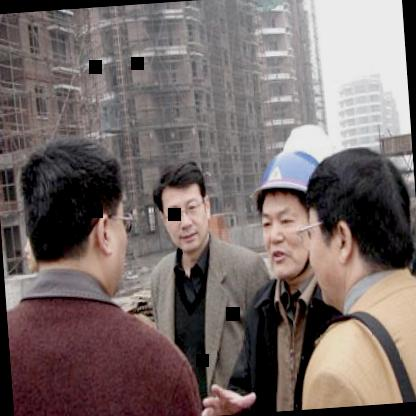head: (10, 124, 139, 302), (305, 136, 416, 312), (151, 148, 215, 256)
helmet: (247, 145, 330, 282)
